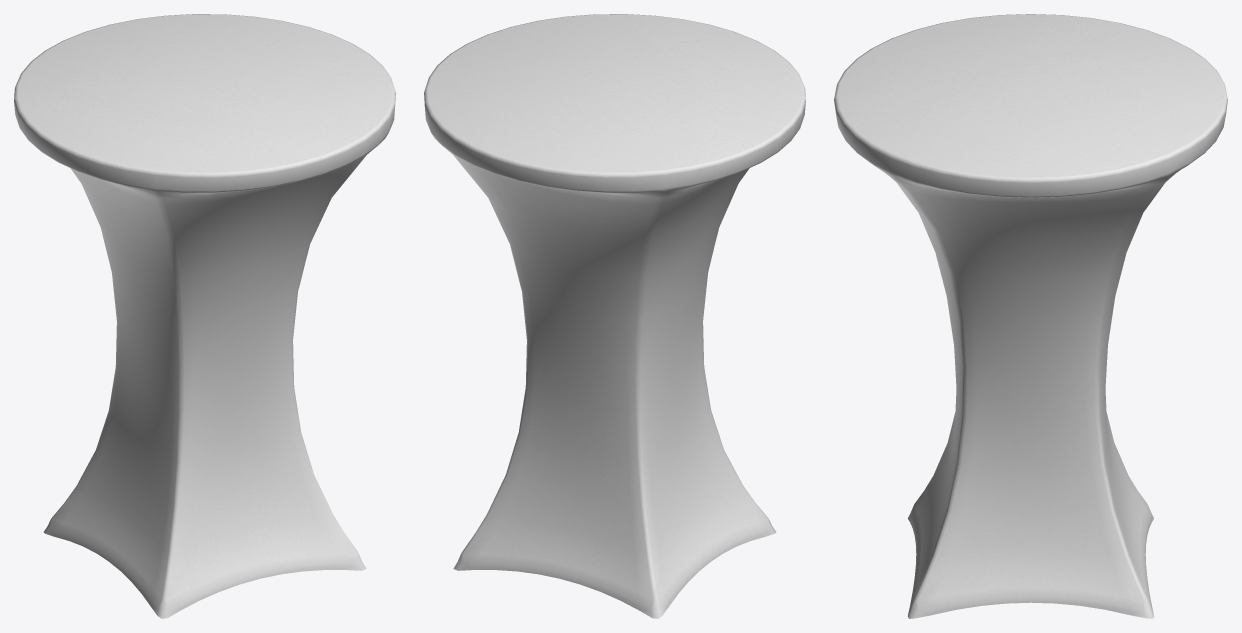
File: EventTable05Cloth01.FBX
3 views of the same model, side by side, from view 1: azimuth 30°, elevation 25°; view 2: azimuth 150°, elevation 25°; view 3: azimuth 270°, elevation 25° (orthographic). The views are drawn at different scales.
Visible parts, largest first — view 1: EventTable05Cloth01; view 2: EventTable05Cloth01; view 3: EventTable05Cloth01.
Part boxes in pixels (left/top/right/bottom): EventTable05Cloth01: left=14, top=14, right=395, bottom=618; EventTable05Cloth01: left=424, top=14, right=805, bottom=618; EventTable05Cloth01: left=834, top=14, right=1227, bottom=618.
Size of what is drawn, in the model's own units: 0.9086 by 1.2 by 0.9086.
